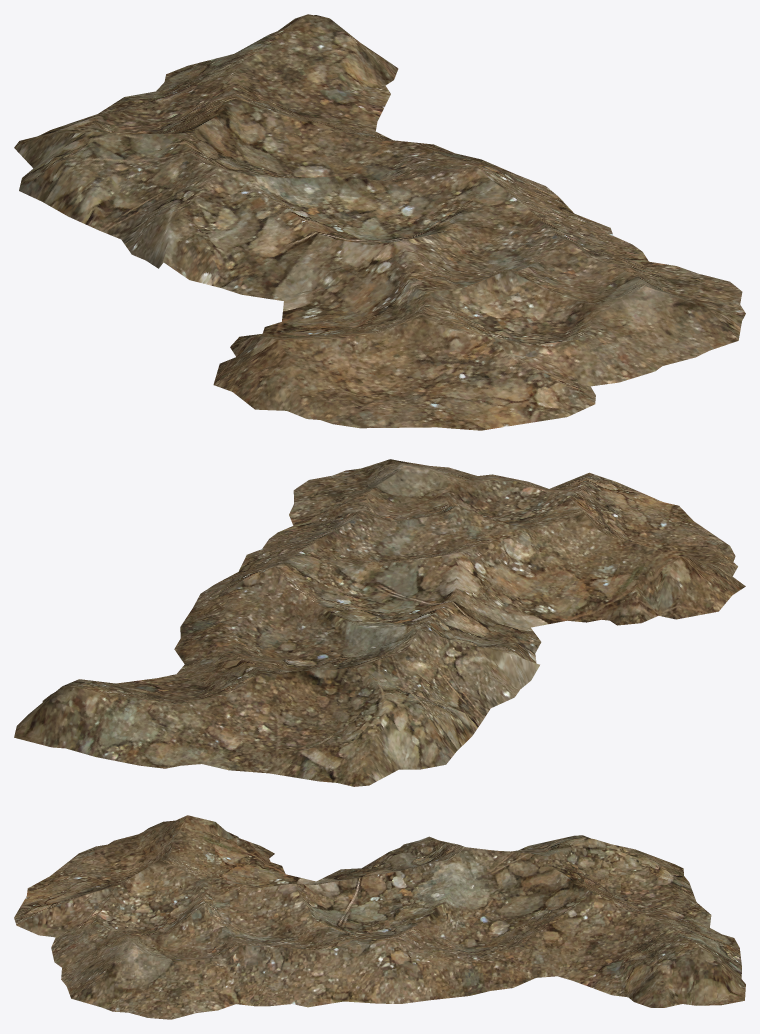
File: groundTile0.fbx
3 views of the same model, one above another, from view 1: azimuth 30°, elevation 25°; view 2: azimuth 150°, elevation 25°; view 3: azimuth 270°, elevation 25° (orthographic). The views are drawn at different scales.
Parts seen in each view (by area): view 1: LV_Ostium_Rock_A_Groundstone02_SM_CMJ; view 2: LV_Ostium_Rock_A_Groundstone02_SM_CMJ; view 3: LV_Ostium_Rock_A_Groundstone02_SM_CMJ.
Boxes of the visible parts, x1,y1,x2,y2 form: LV_Ostium_Rock_A_Groundstone02_SM_CMJ: [14, 14, 745, 430]; LV_Ostium_Rock_A_Groundstone02_SM_CMJ: [14, 459, 745, 786]; LV_Ostium_Rock_A_Groundstone02_SM_CMJ: [14, 815, 745, 1019].
Size of the model in its own units: 4.37 by 0.502 by 7.03.
1 material, 1 textured.
